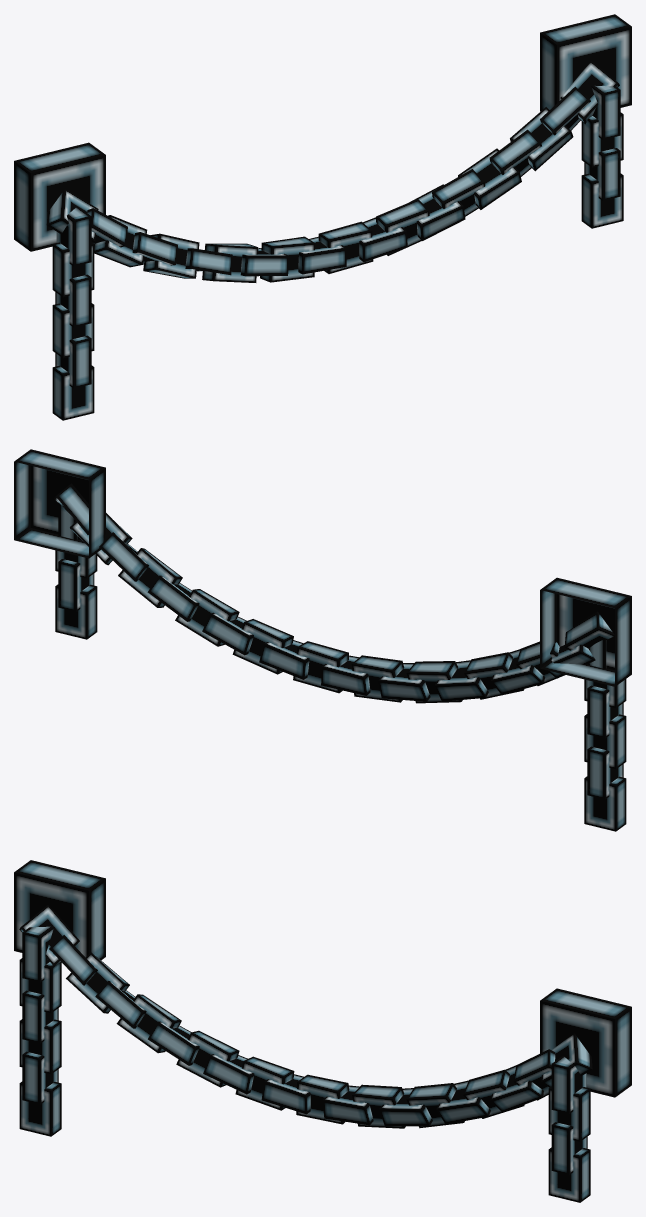
File: deco_chainWall.FBX
3 renders of one model, top to bottom at view 1: azimuth 30°, elevation 25°; view 2: azimuth 150°, elevation 25°; view 3: azimuth 330°, elevation 25°, orthographic.
Parts seen in each view (by area): view 1: deco_chainWall; view 2: deco_chainWall; view 3: deco_chainWall.
Boxes of the visible parts, x1,y1,x2,y2 form: deco_chainWall: (14,14,631,420); deco_chainWall: (14,449,631,831); deco_chainWall: (14,860,631,1202).
Bounding box in the file's own units: 3.43 × 1.32 × 0.3358.
1 material, 1 textured.
